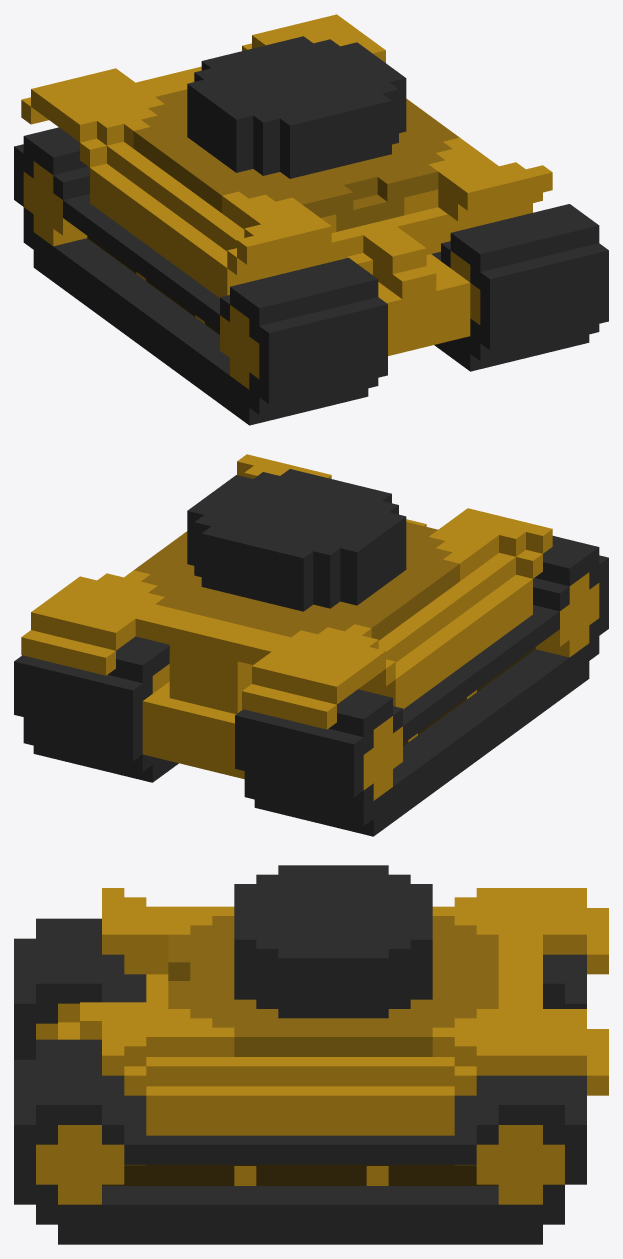
The model's file is Tank_Player_Base.fbx.
3 renders of one model, top to bottom at view 1: azimuth 30°, elevation 25°; view 2: azimuth 150°, elevation 25°; view 3: azimuth 270°, elevation 25°, orthographic. The views are drawn at different scales.
Parts seen in each view (by area): view 1: Matrix_4; view 2: Matrix_4; view 3: Matrix_4.
Boxes of the visible parts, x1,y1,x2,y2 form: Matrix_4: (14, 14, 608, 425); Matrix_4: (14, 454, 608, 836); Matrix_4: (14, 865, 608, 1244).
Size of the model in its own units: 20 by 12 by 27.
